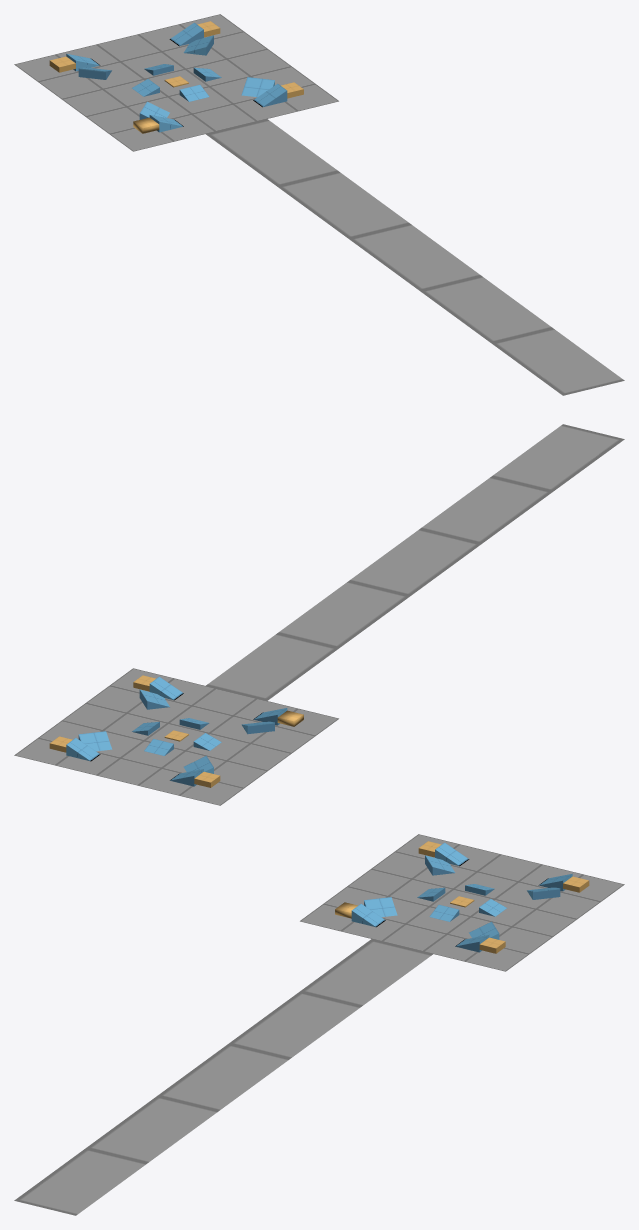
The model's file is hills.gltf.
3 renders of one model, top to bottom at view 1: azimuth 30°, elevation 25°; view 2: azimuth 150°, elevation 25°; view 3: azimuth 330°, elevation 25°, orthographic.
Parts seen in each view (by area): view 1: Ground_Strip, Ground; view 2: Ground_Strip, Ground; view 3: Ground_Strip, Ground.
Part boxes in pixels (bbox=[...]): Ground_Strip: bbox=[206, 119, 624, 395]; Ground: bbox=[14, 14, 338, 151]; Ground_Strip: bbox=[206, 424, 624, 700]; Ground: bbox=[14, 668, 338, 805]; Ground_Strip: bbox=[14, 939, 432, 1215]; Ground: bbox=[300, 834, 624, 971].
Size of what is drawn, in the model's own units: 100 by 5 by 400.
3 materials, 3 textured.
